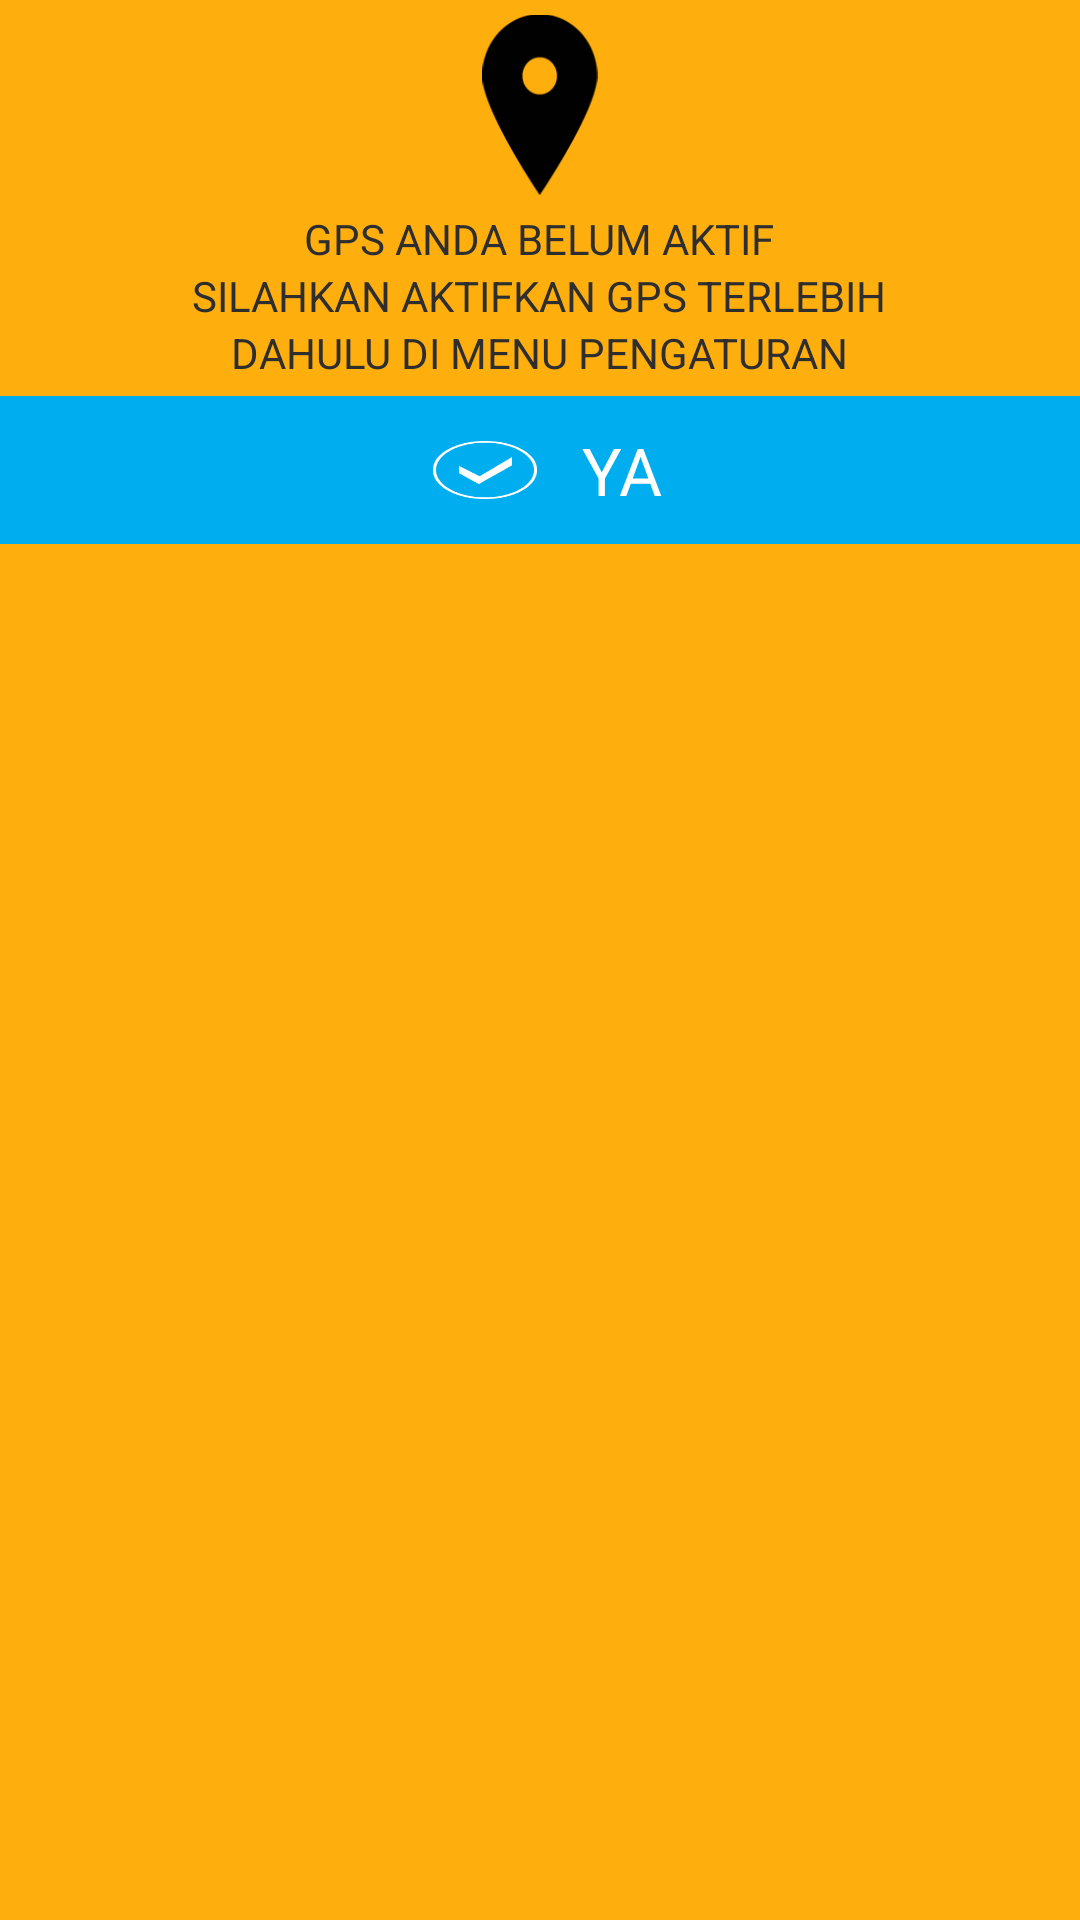

Icons on this 1080*1920 Android screen, each with the point to tap as [x,y]:
centang: [485,470]
